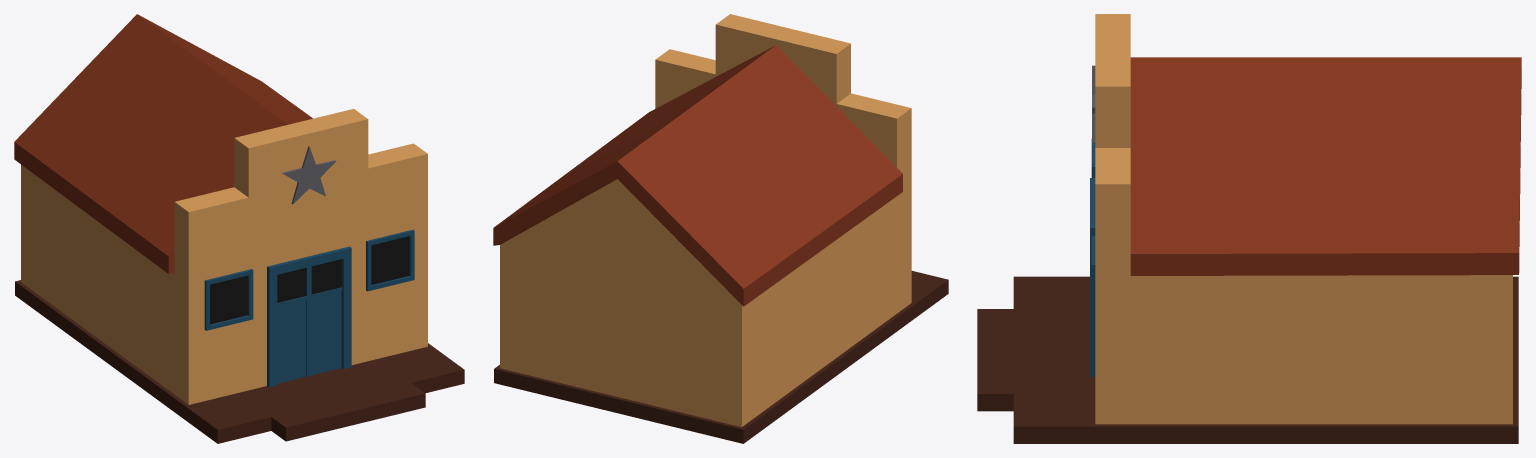
File: sheriff.FBX
3 views of the same model, side by side, from view 1: azimuth 30°, elevation 25°; view 2: azimuth 150°, elevation 25°; view 3: azimuth 270°, elevation 25° (orthographic). The views are drawn at different scales.
Parts seen in each view (by area): view 1: Box006; view 2: Box006; view 3: Box006.
Boxes of the visible parts, x1,y1,x2,y2 form: Box006: [14, 14, 464, 443]; Box006: [493, 14, 948, 443]; Box006: [977, 14, 1521, 443].
Size of the model in its own units: 63.9 by 62.32 by 96.44.
